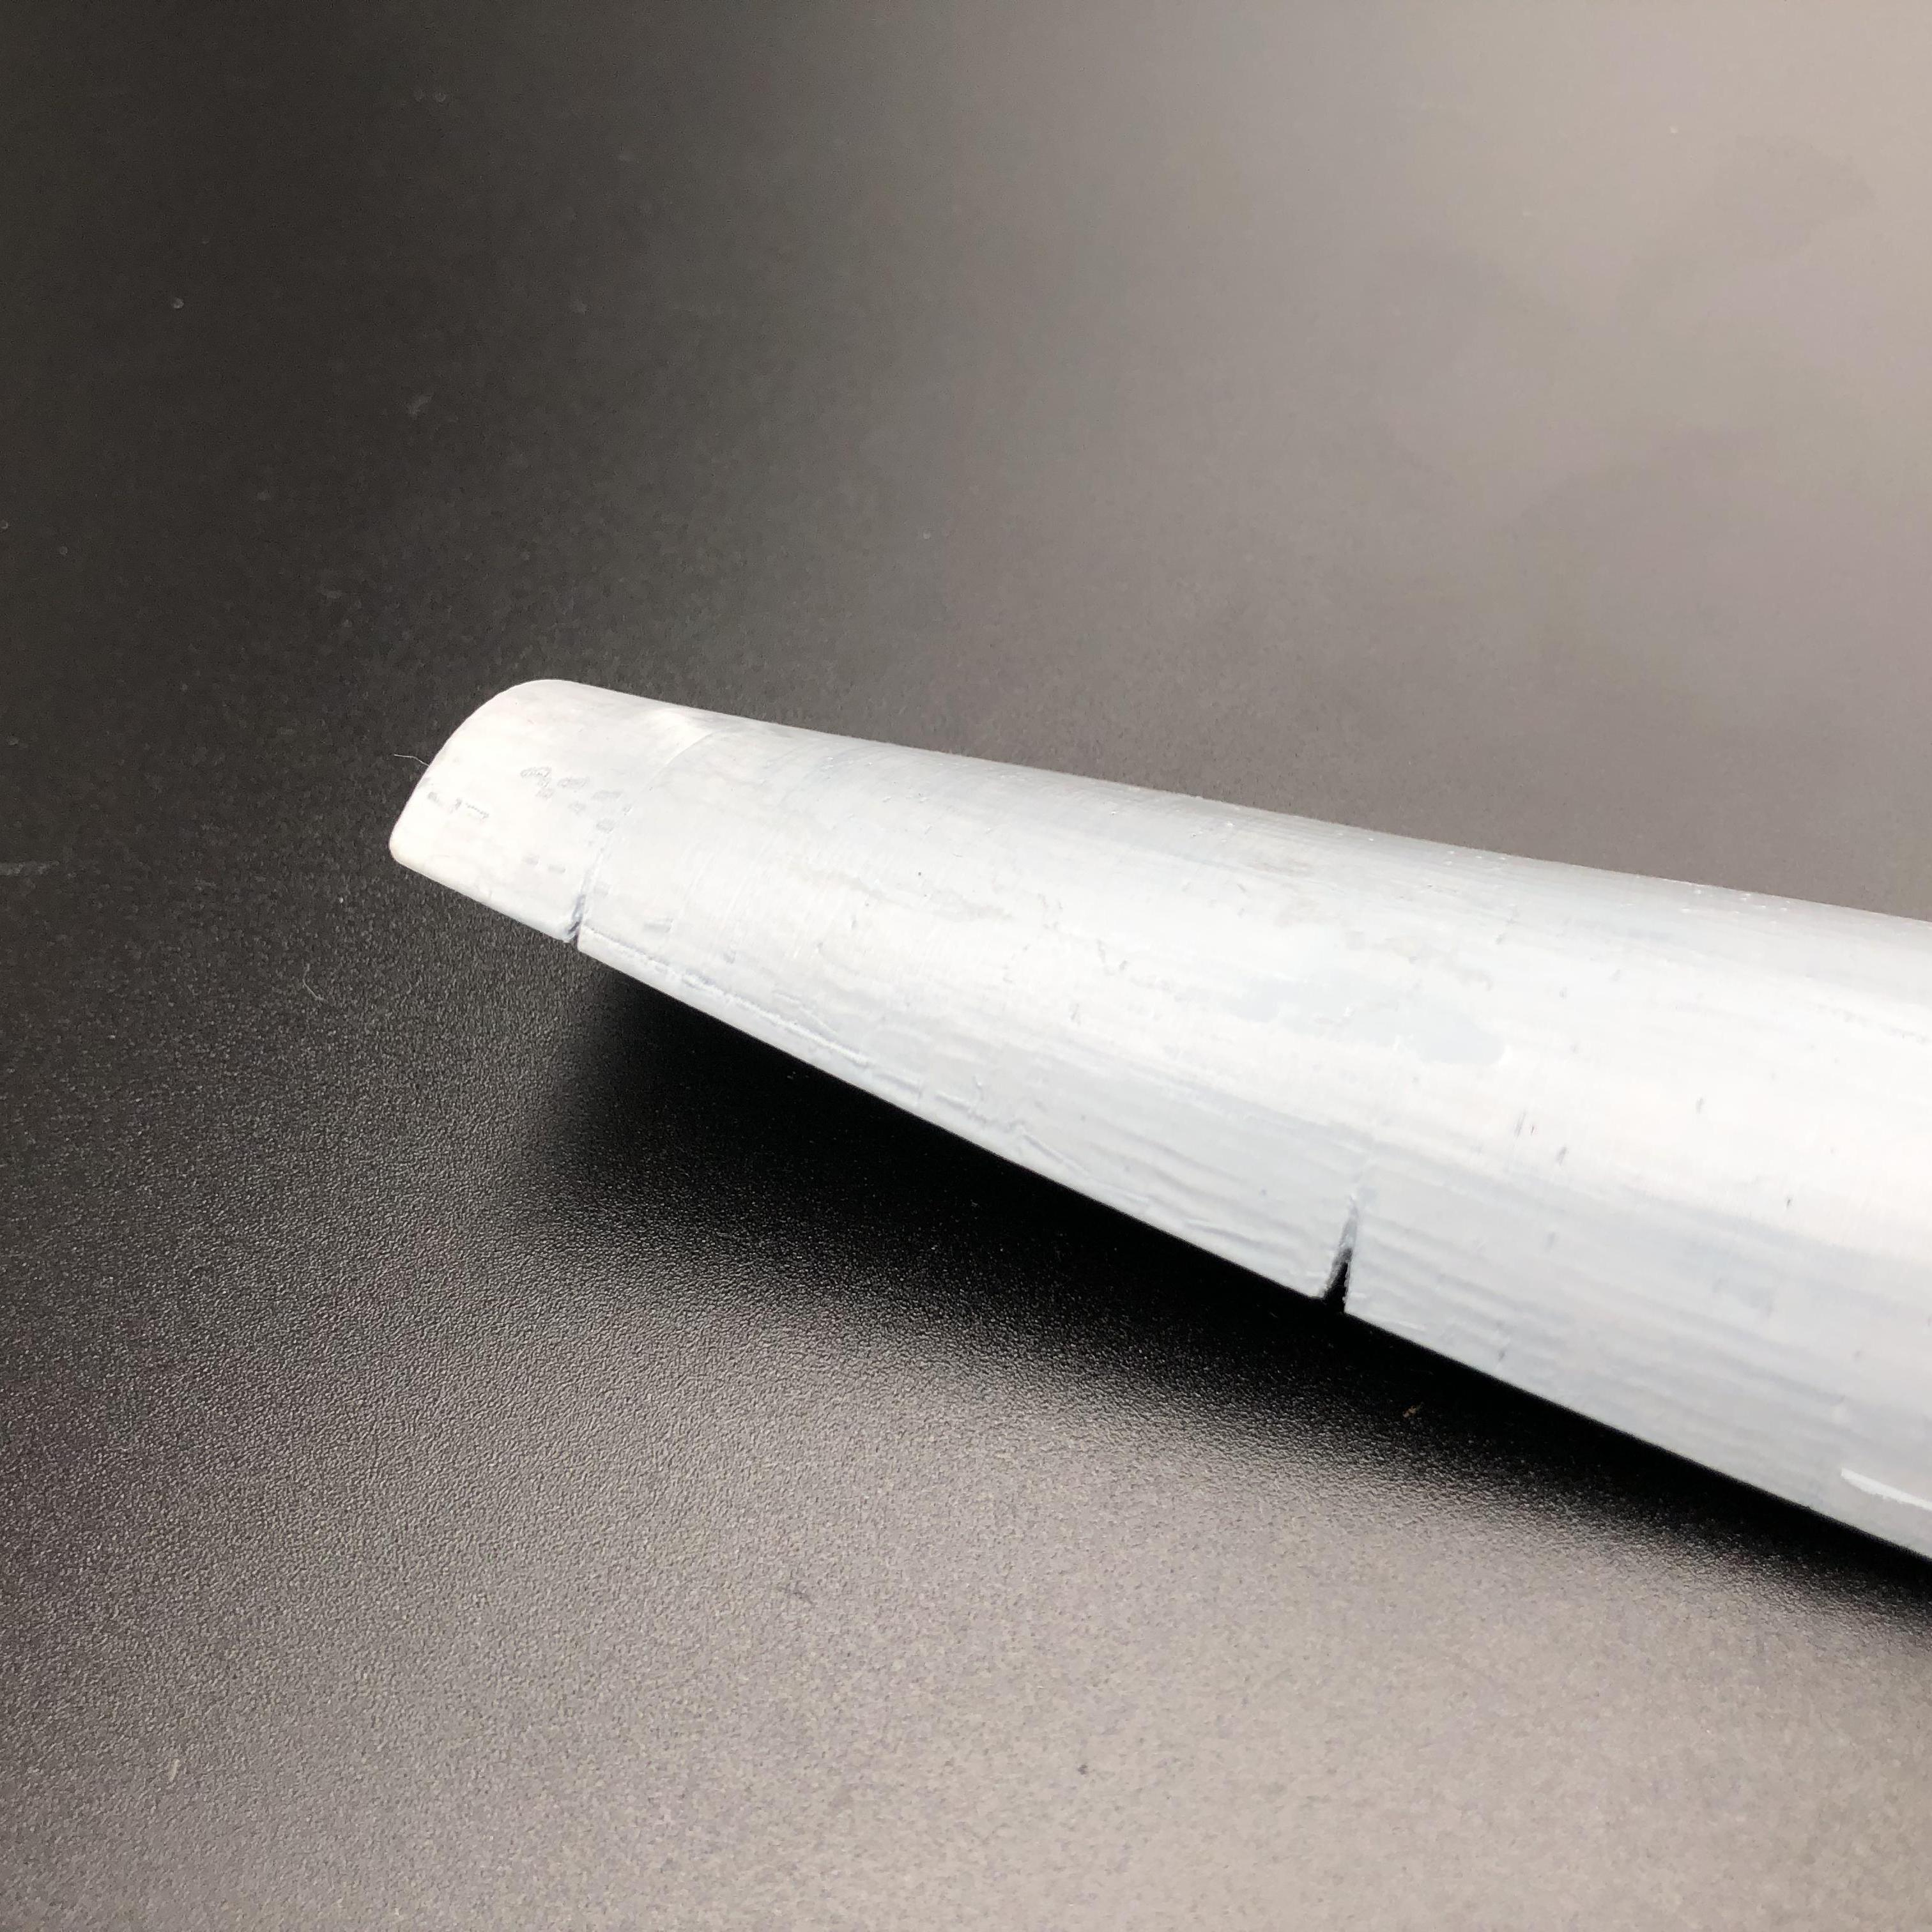groove: (1307, 1215, 1382, 1307), (561, 893, 603, 952)
